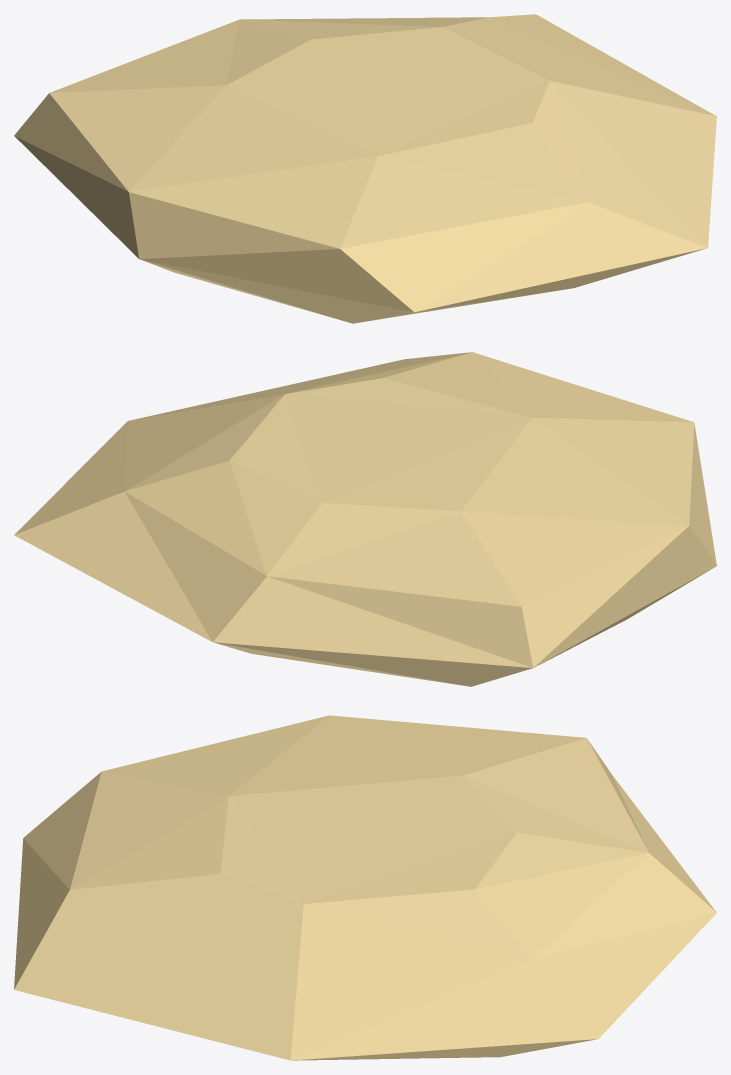
File: aq_sand_mound.fbx
The picture shows the model from 3 angles, top to bottom: view 1: azimuth 30°, elevation 25°; view 2: azimuth 150°, elevation 25°; view 3: azimuth 270°, elevation 25°; orthographic projection. The views are drawn at different scales.
Parts seen in each view (by area): view 1: aq_sand_mound; view 2: aq_sand_mound; view 3: aq_sand_mound.
Boxes of the visible parts, x1,y1,x2,y2 form: aq_sand_mound: [14, 14, 716, 323]; aq_sand_mound: [14, 352, 716, 686]; aq_sand_mound: [14, 715, 716, 1060].
Size of the model in its own units: 1.5 by 0.3 by 1.5.
